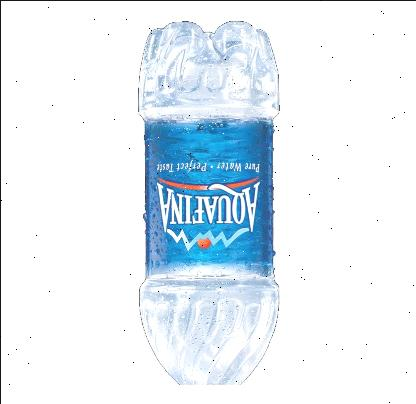Plastic Bottle: (137, 19, 278, 384)
